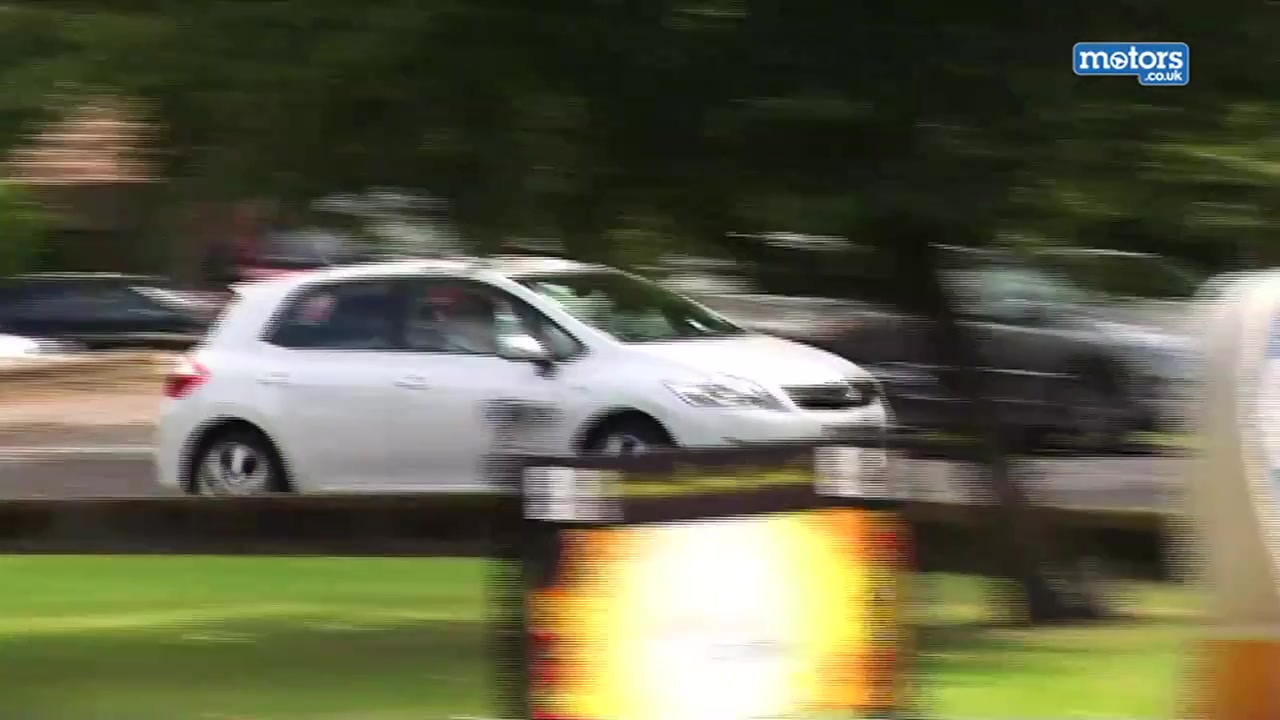car: (148, 253, 893, 495), (764, 245, 1214, 459), (4, 264, 226, 347)
